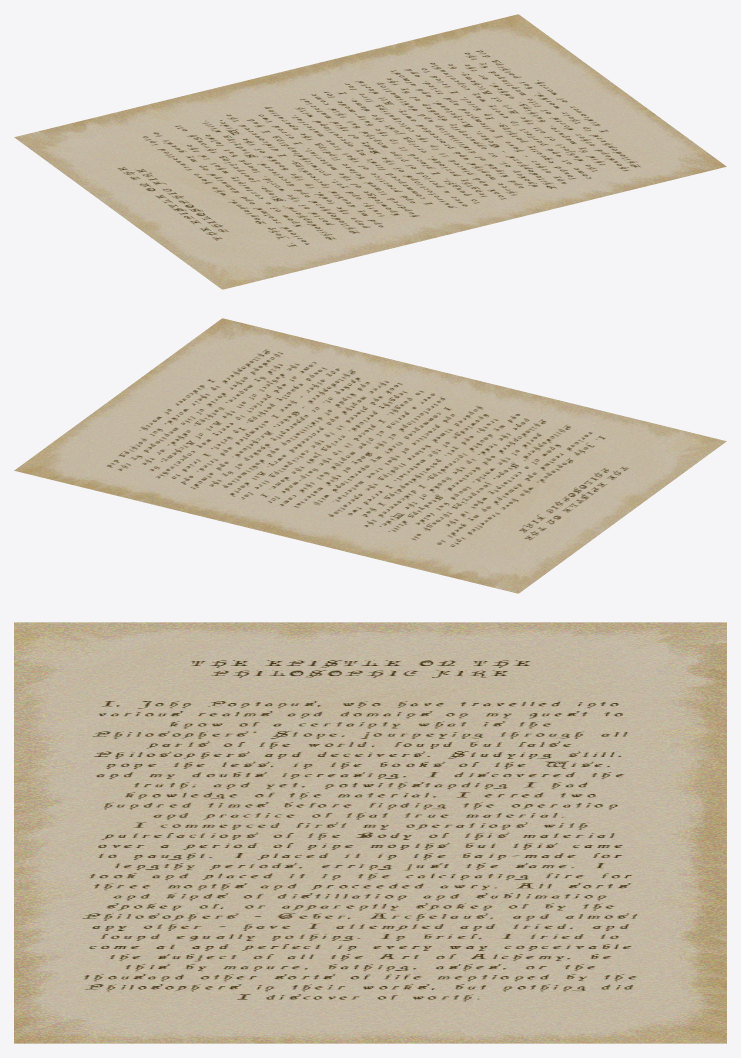
The model's file is paper_v1.FBX.
3 views of the same model, one above another, from view 1: azimuth 30°, elevation 25°; view 2: azimuth 150°, elevation 25°; view 3: azimuth 270°, elevation 25° (orthographic). The views are drawn at different scales.
Parts seen in each view (by area): view 1: Plane001; view 2: Plane001; view 3: Plane001.
Boxes of the visible parts, x1,y1,x2,y2 form: Plane001: (14, 14, 726, 289); Plane001: (14, 318, 726, 593); Plane001: (14, 622, 726, 1043).
Size of the model in its own units: 30.96 by 1.36e-15 by 22.15.
1 material, 1 textured.
